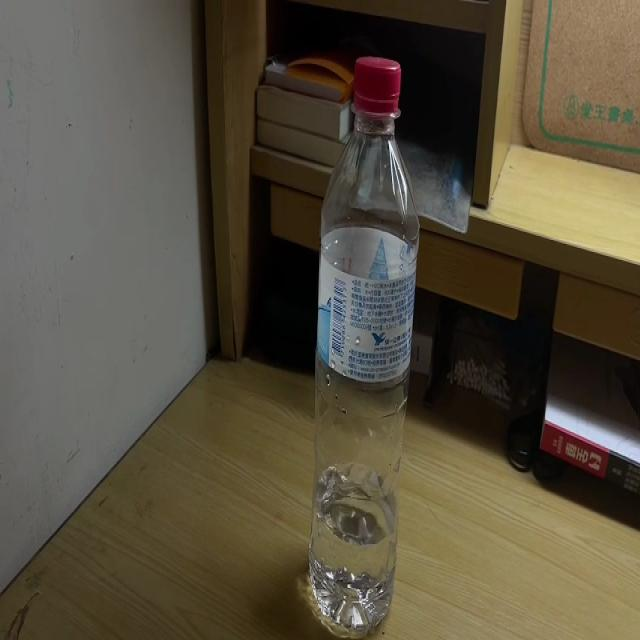Water: (312, 55, 419, 636)
